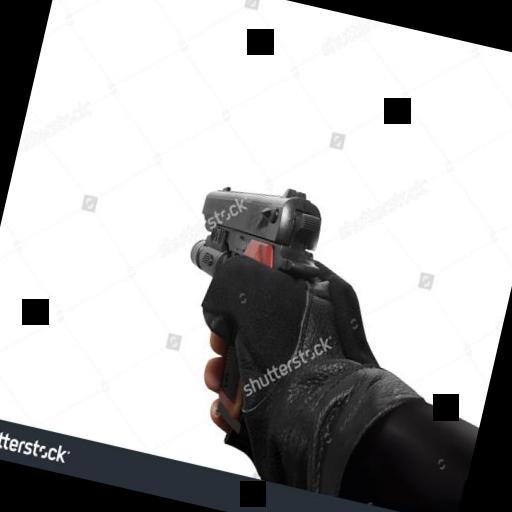Handgun: (152, 166, 334, 440)
